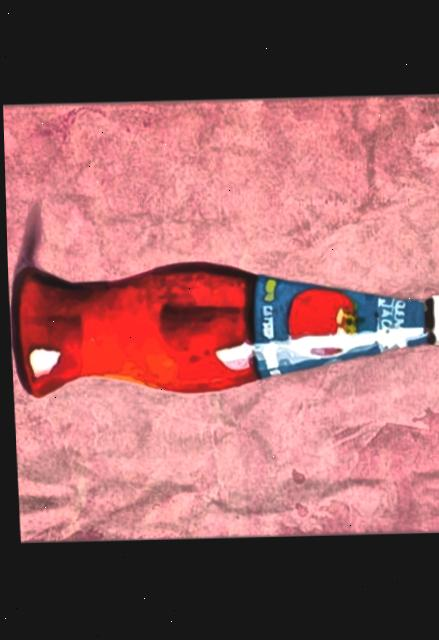La Botella: (2, 95, 439, 543)
